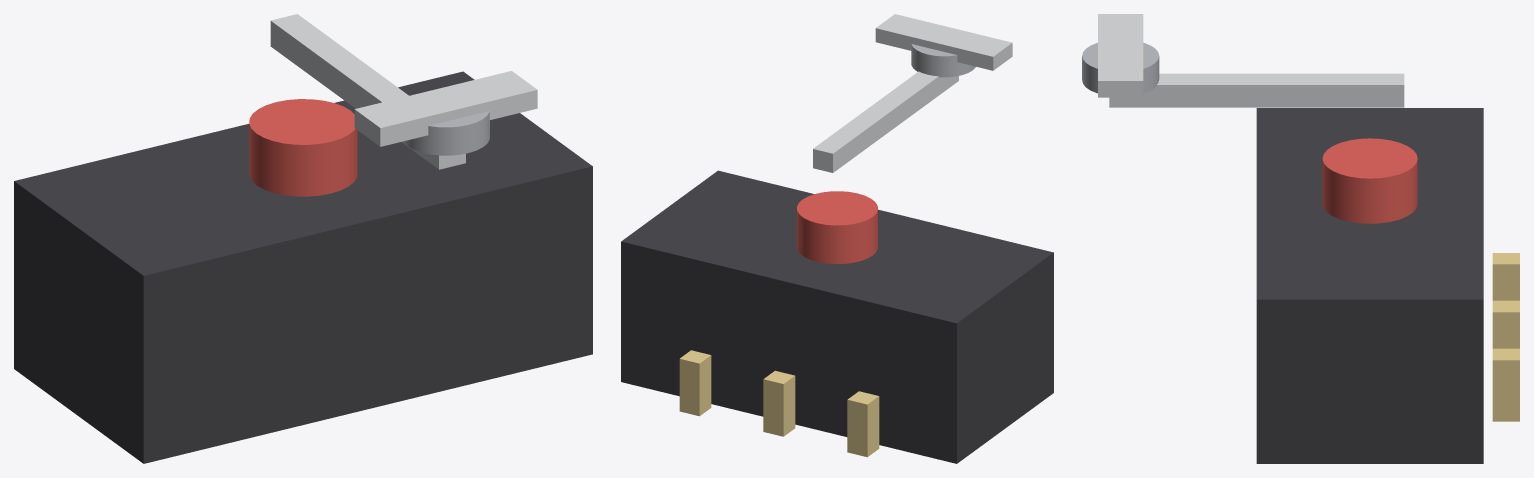
File: limit-switch.glb
The picture shows the model from 3 angles, left to right: view 1: azimuth 30°, elevation 25°; view 2: azimuth 150°, elevation 25°; view 3: azimuth 270°, elevation 25°; orthographic projection. The views are drawn at different scales.
Parts seen in each view (by area): view 1: switch-body, lever, plunger; view 2: switch-body, lever, terminals, plunger; view 3: switch-body, lever, plunger, terminals.
Part boxes in pixels (<box>): switch-body: <box>14,71,592,463</box>; lever: <box>270,14,537,169</box>; plunger: <box>249,99,357,196</box>; switch-body: <box>621,170,1053,463</box>; lever: <box>813,14,1012,172</box>; terminals: <box>679,350,879,457</box>; plunger: <box>797,191,877,263</box>; switch-body: <box>1256,108,1483,463</box>; lever: <box>1082,14,1404,107</box>; plunger: <box>1322,138,1417,223</box>; terminals: <box>1492,253,1519,421</box>.
Size of the model in its own units: 0.02 by 0.0156 by 0.0193.
